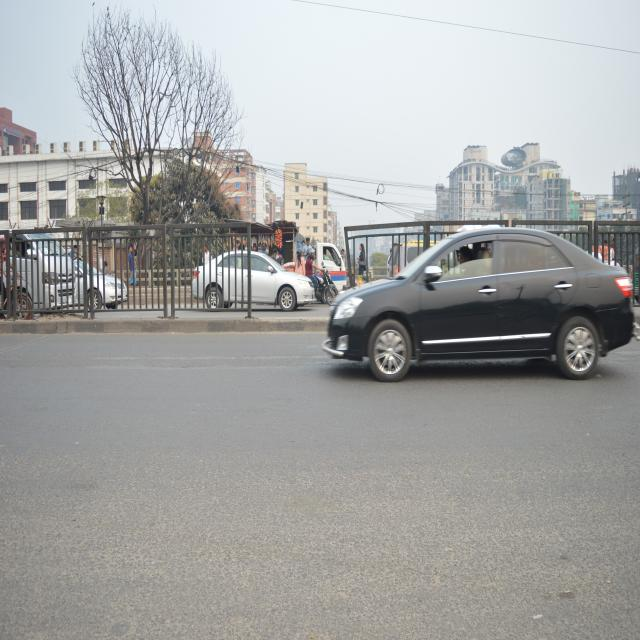car: (313, 201, 639, 396), (186, 248, 316, 324), (80, 262, 134, 304)
microbus: (3, 220, 84, 310)
pickup-van: (284, 227, 354, 302)
